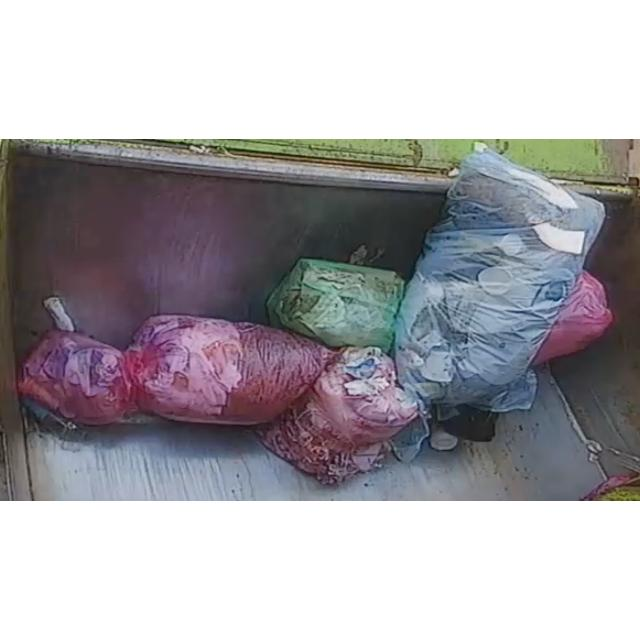general_trashbag: (266, 258, 404, 353)
other_trashbag: (395, 149, 605, 412), (258, 348, 426, 484), (125, 315, 331, 425), (18, 330, 132, 425), (533, 272, 614, 365)
